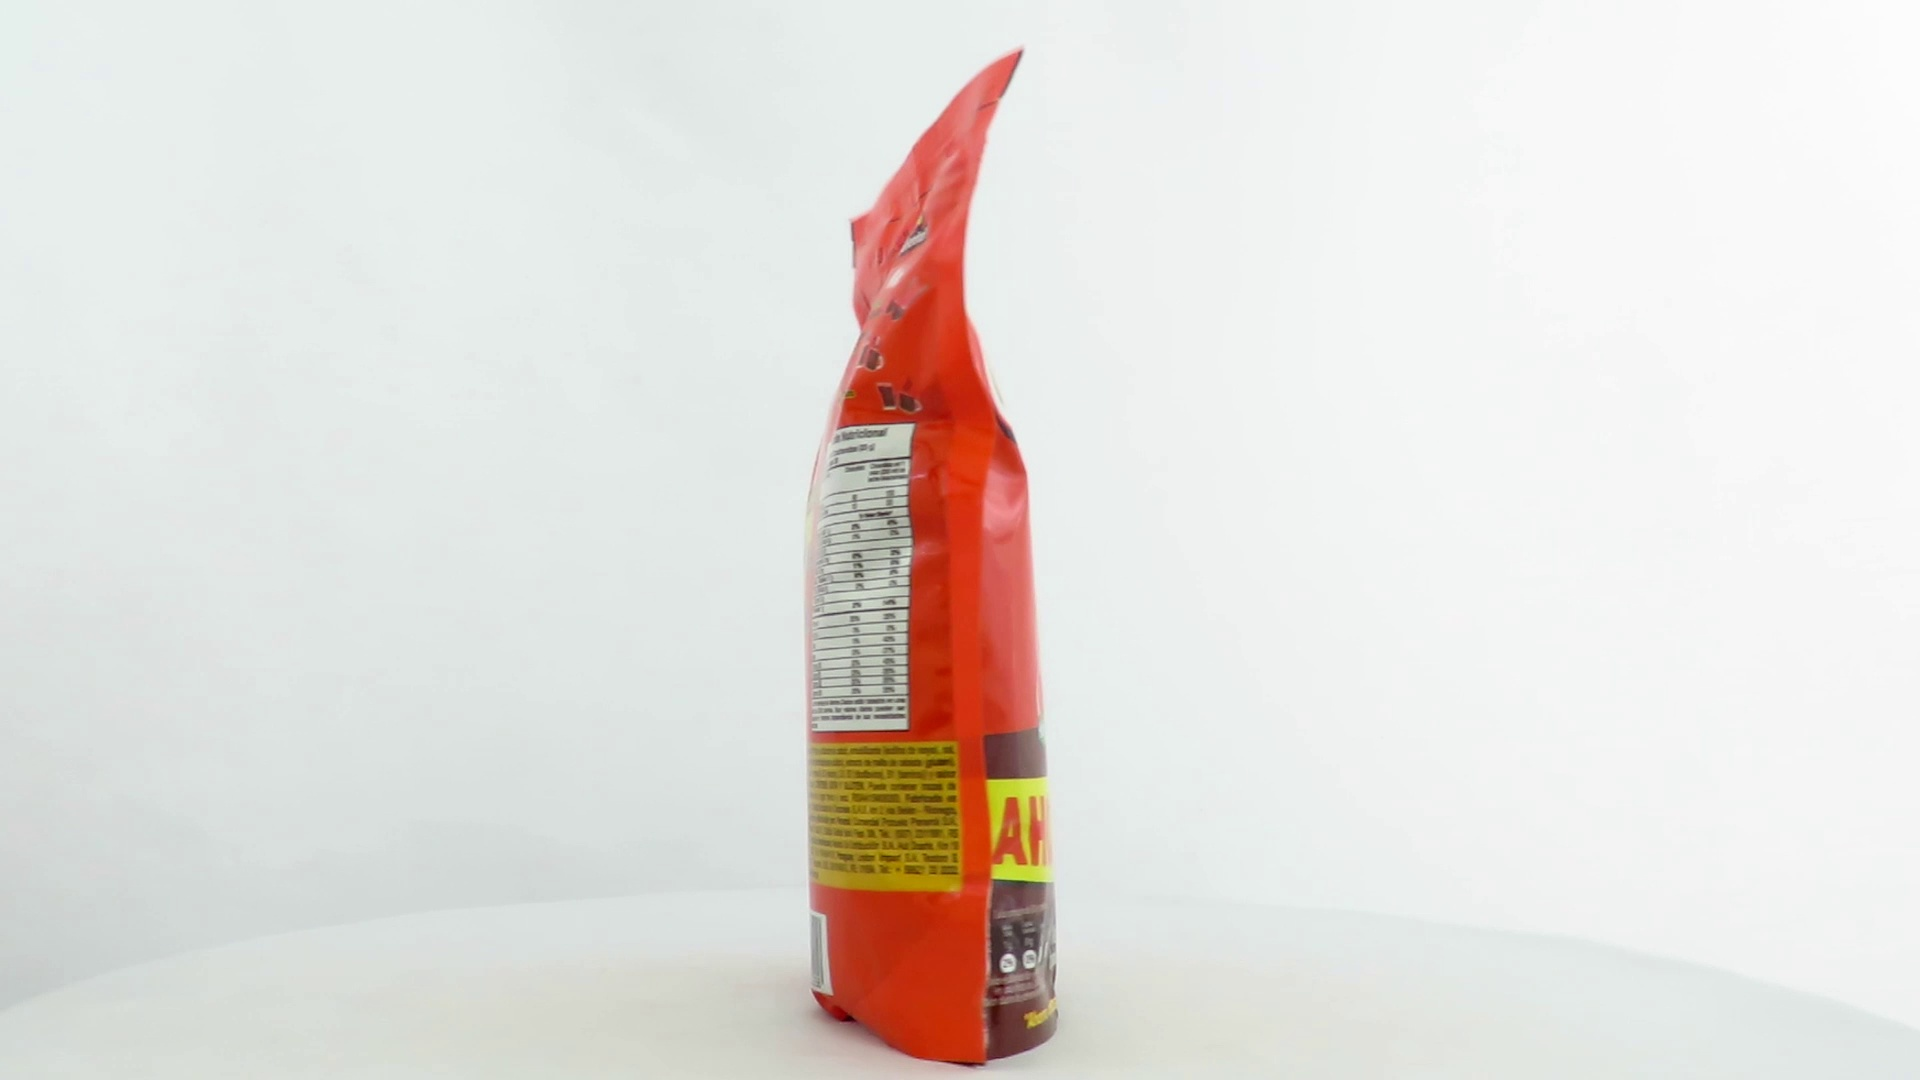COL0170103DYP40000: (798, 45, 1065, 1073)
